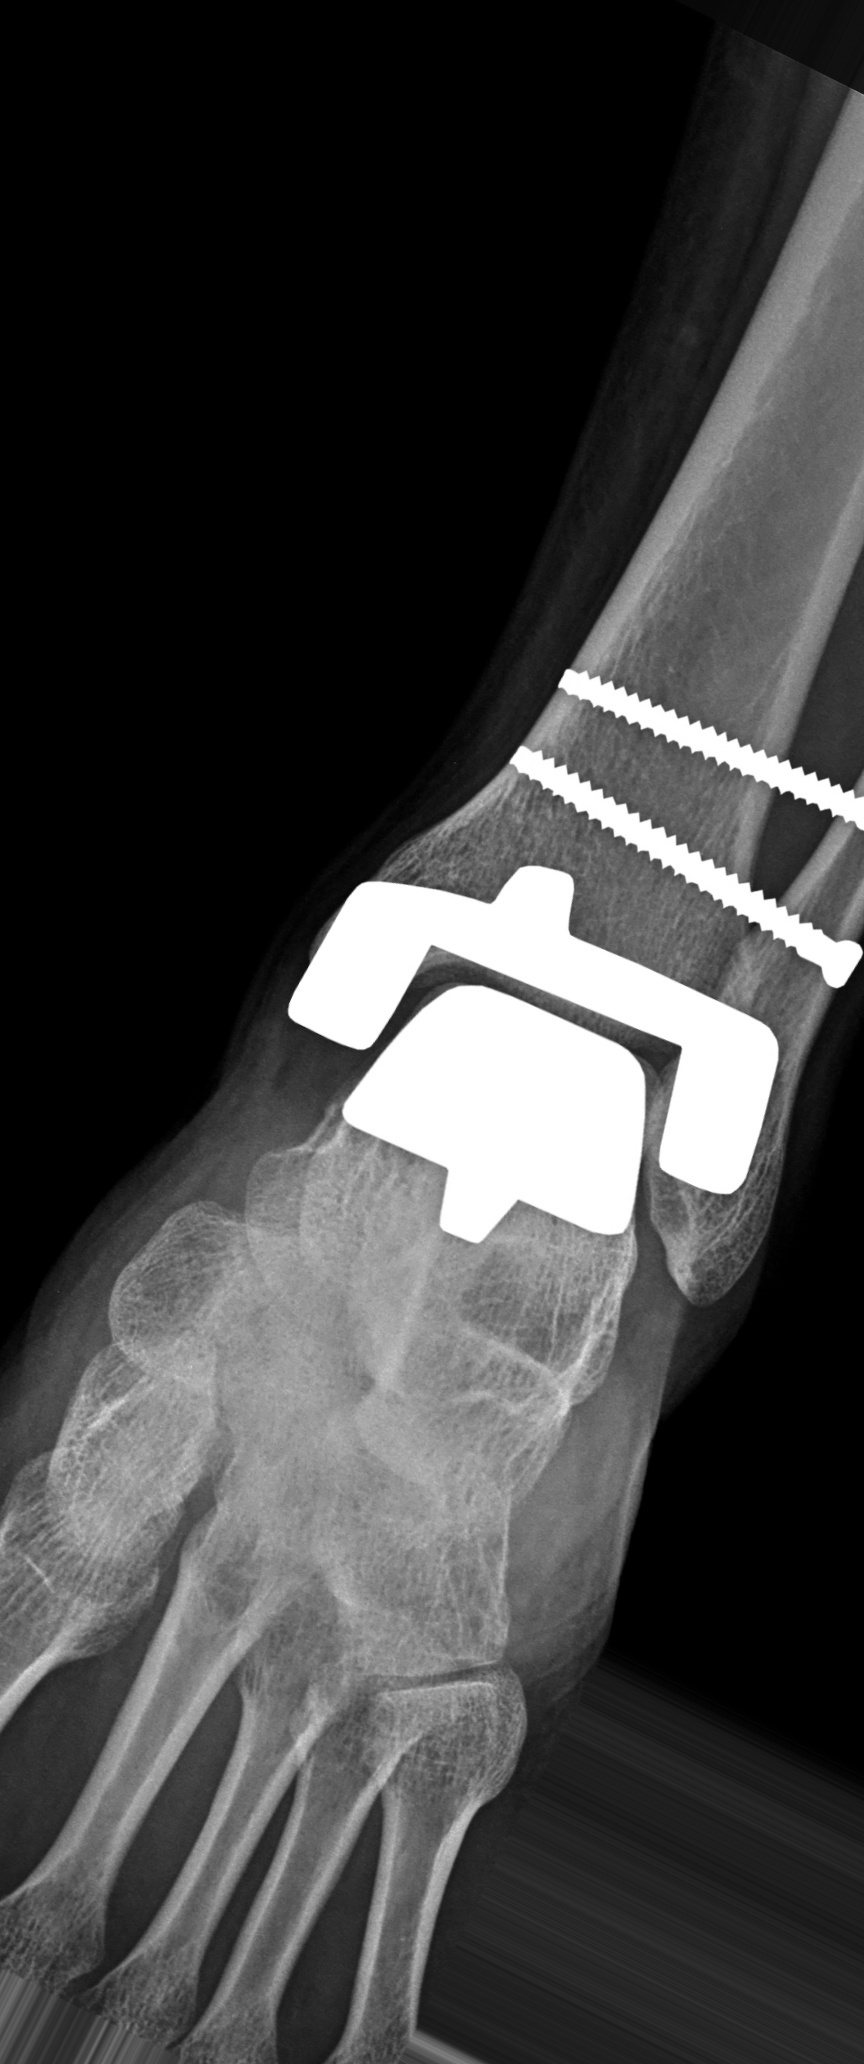Ankle - Agility - DePuy: (254, 616, 864, 1277)
